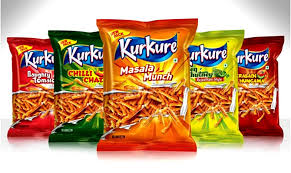kurkure: (117, 37, 182, 60), (64, 44, 105, 67), (240, 50, 276, 69), (192, 46, 234, 61), (24, 50, 54, 69)
plastic: (7, 20, 287, 162)
